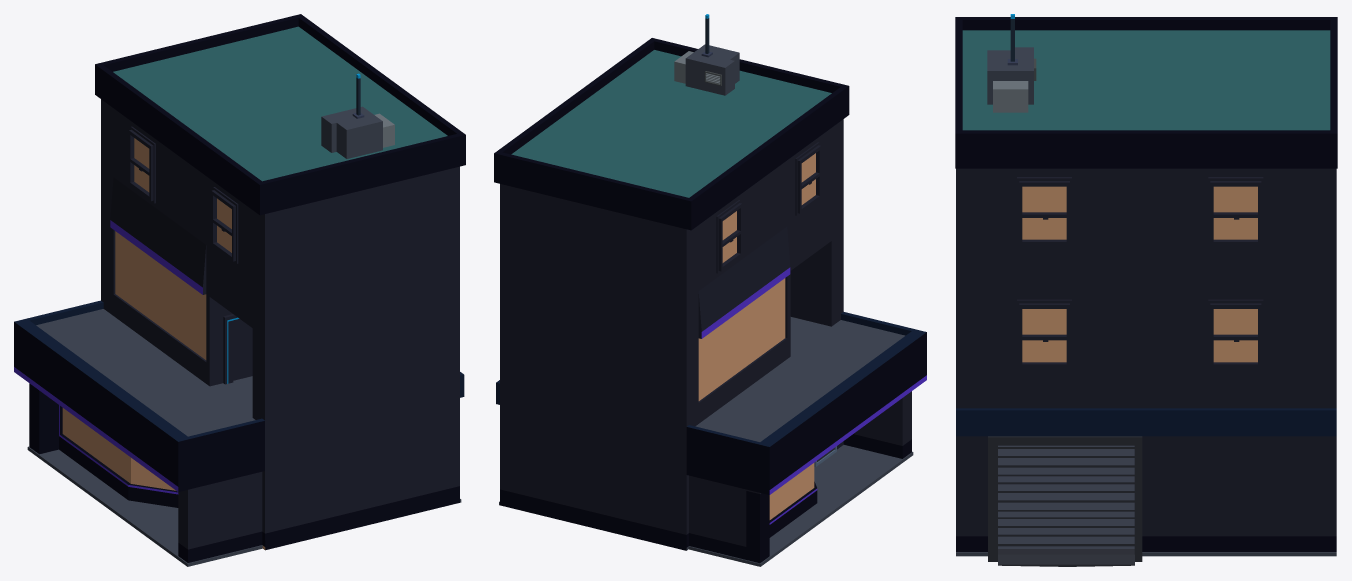
File: Building_Small03.fbx
The picture shows the model from 3 angles, left to right: view 1: azimuth 30°, elevation 25°; view 2: azimuth 150°, elevation 25°; view 3: azimuth 270°, elevation 25°; orthographic projection. The views are drawn at different scales.
Visible parts, largest first — view 1: Cube.404; view 2: Cube.404; view 3: Cube.404.
Boxes of the visible parts, <box> form: Cube.404: <box>14,14,465,566</box>; Cube.404: <box>494,14,926,566</box>; Cube.404: <box>955,14,1337,566</box>.
Size of the model in its own units: 700 by 998 by 687.
